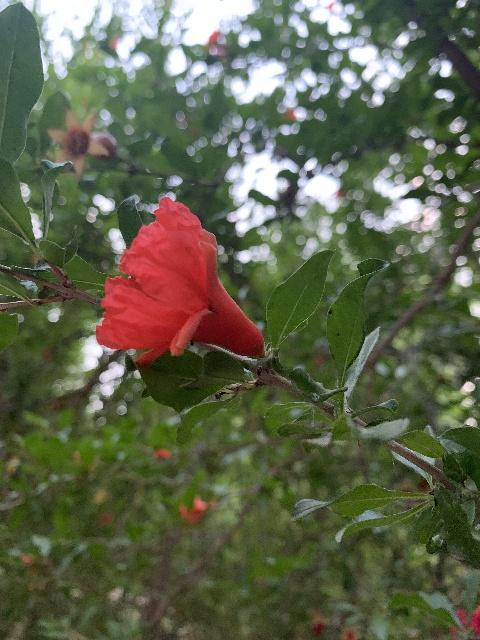early-fruit: (45, 108, 116, 179)
flower: (96, 197, 263, 366)
